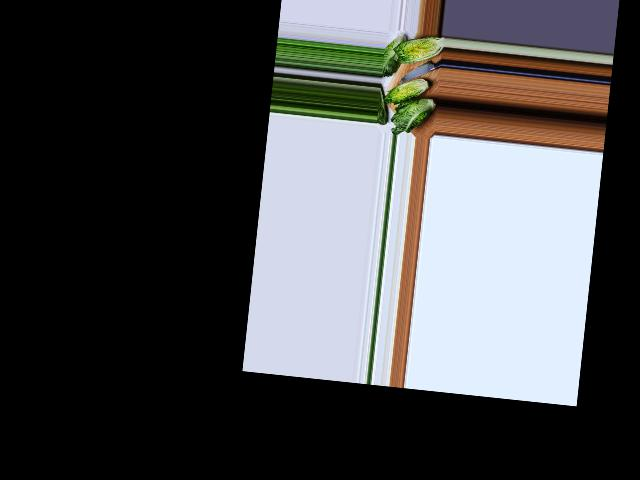lettuce: (383, 33, 406, 78)
